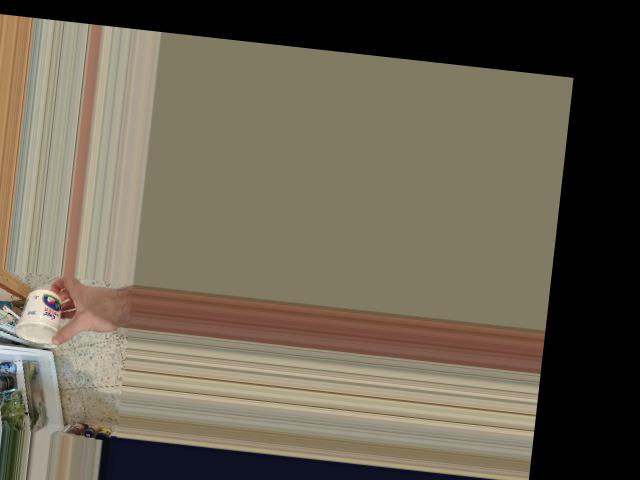cotage: (12, 286, 69, 346)
